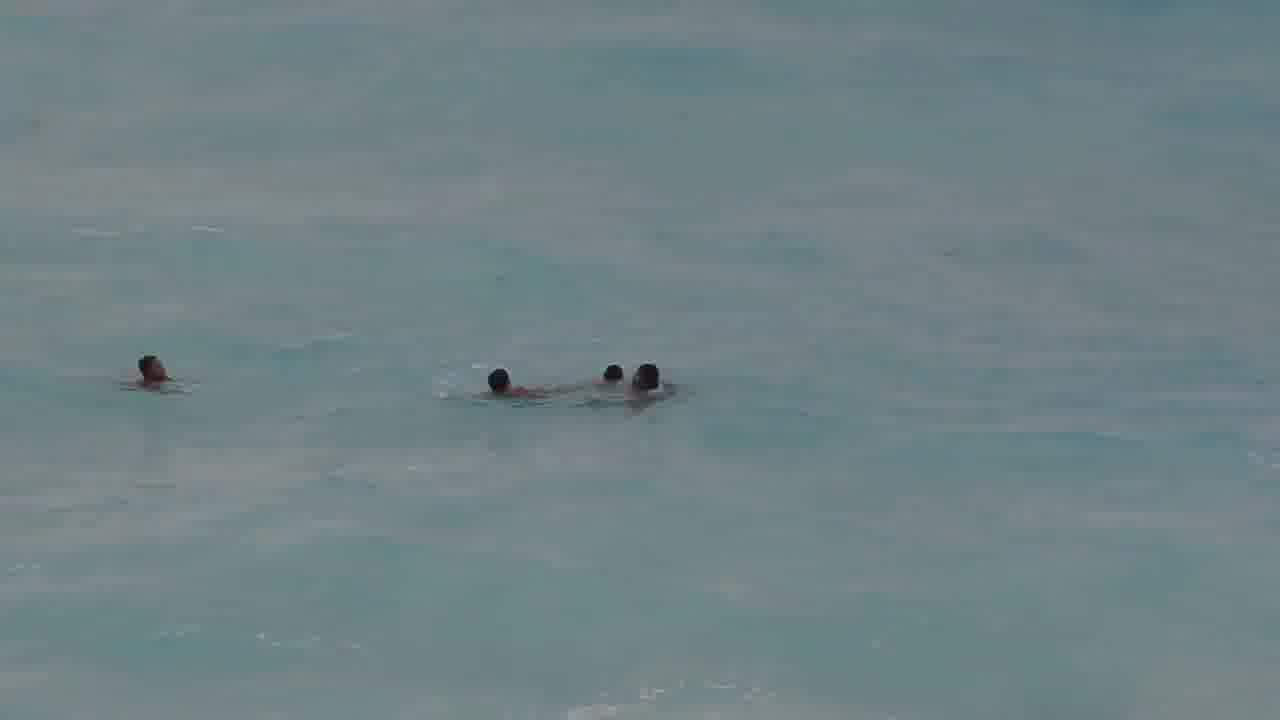human: (115, 352, 198, 392), (450, 364, 554, 395), (628, 364, 684, 406), (578, 359, 634, 388)
